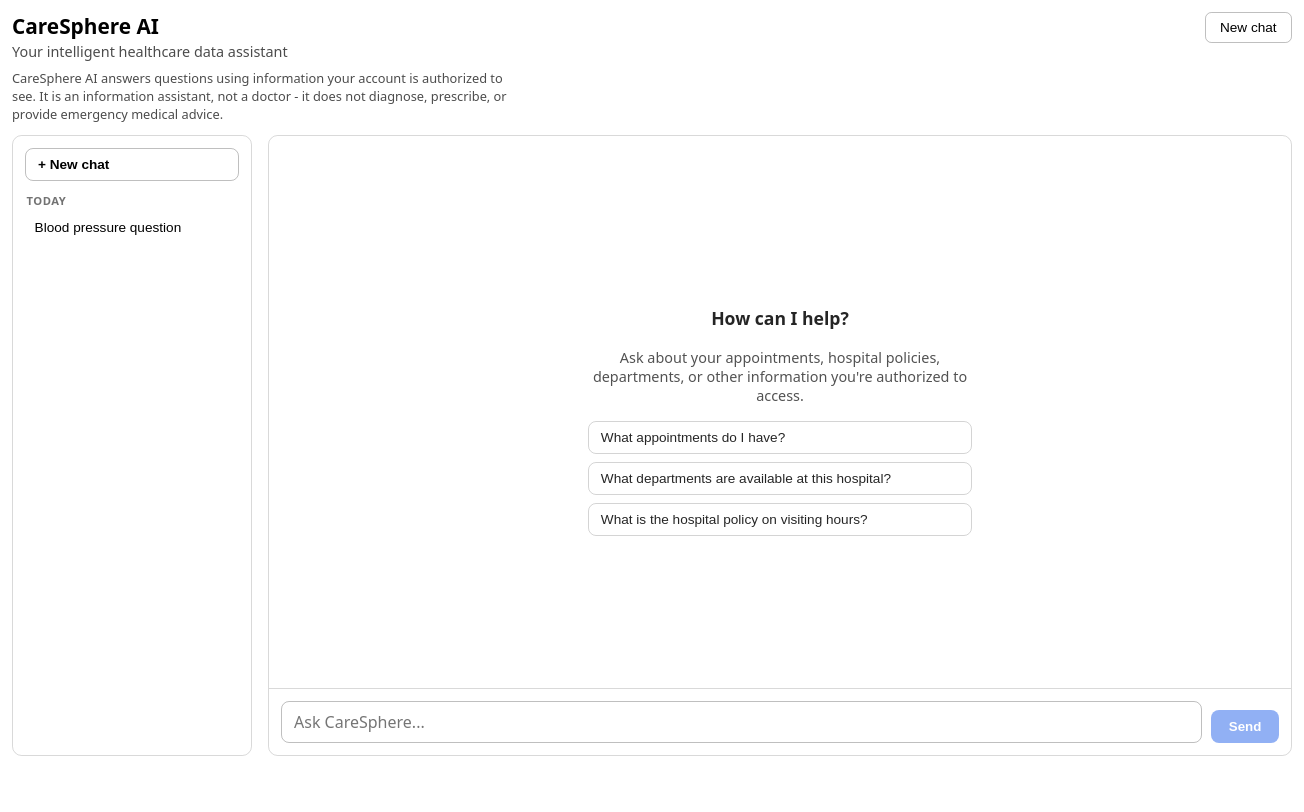
Test: ChatPage - conversation history › selecting a conversation from history navigates and loads its messages
Click the button "Blood pressure question". click: (132,227)
box: [25,212,239,242]
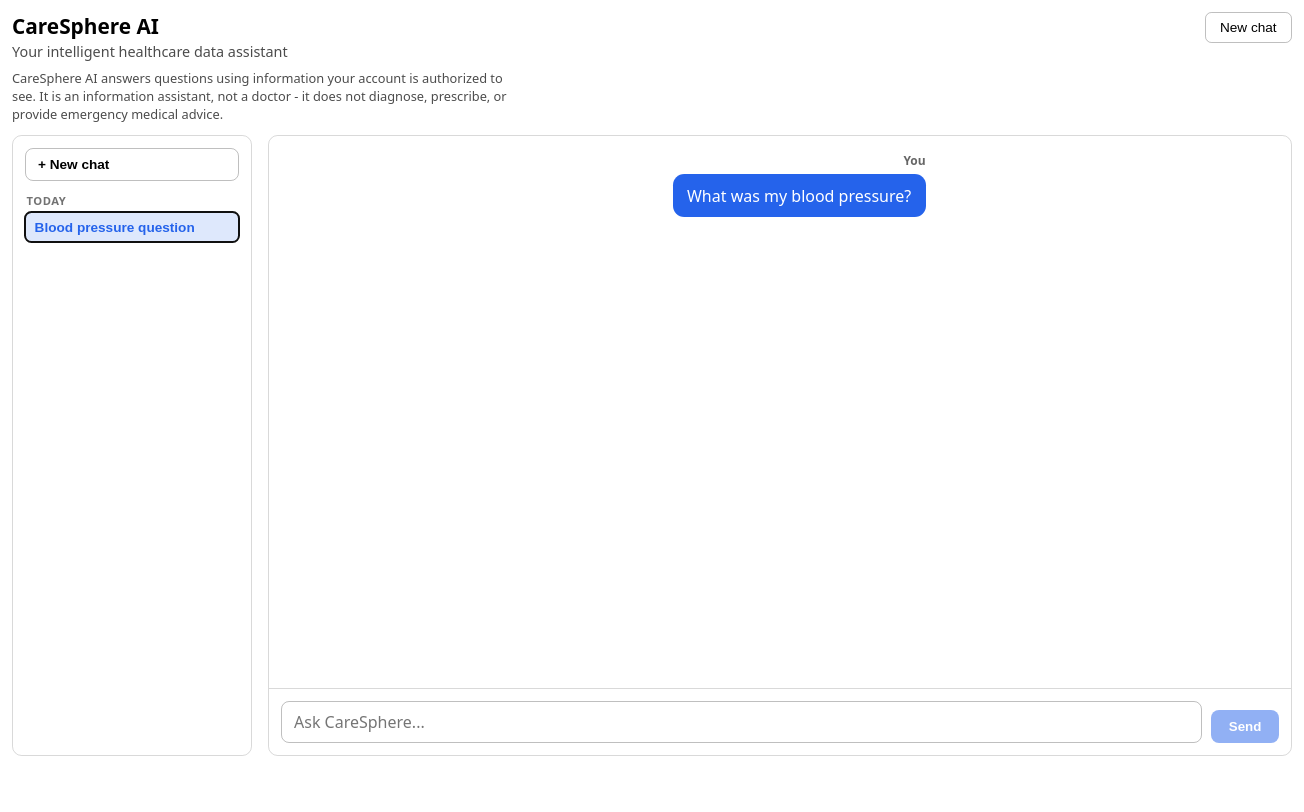
Check: the text "What was my blood pressure?" is shown, box [673,174,926,217]
